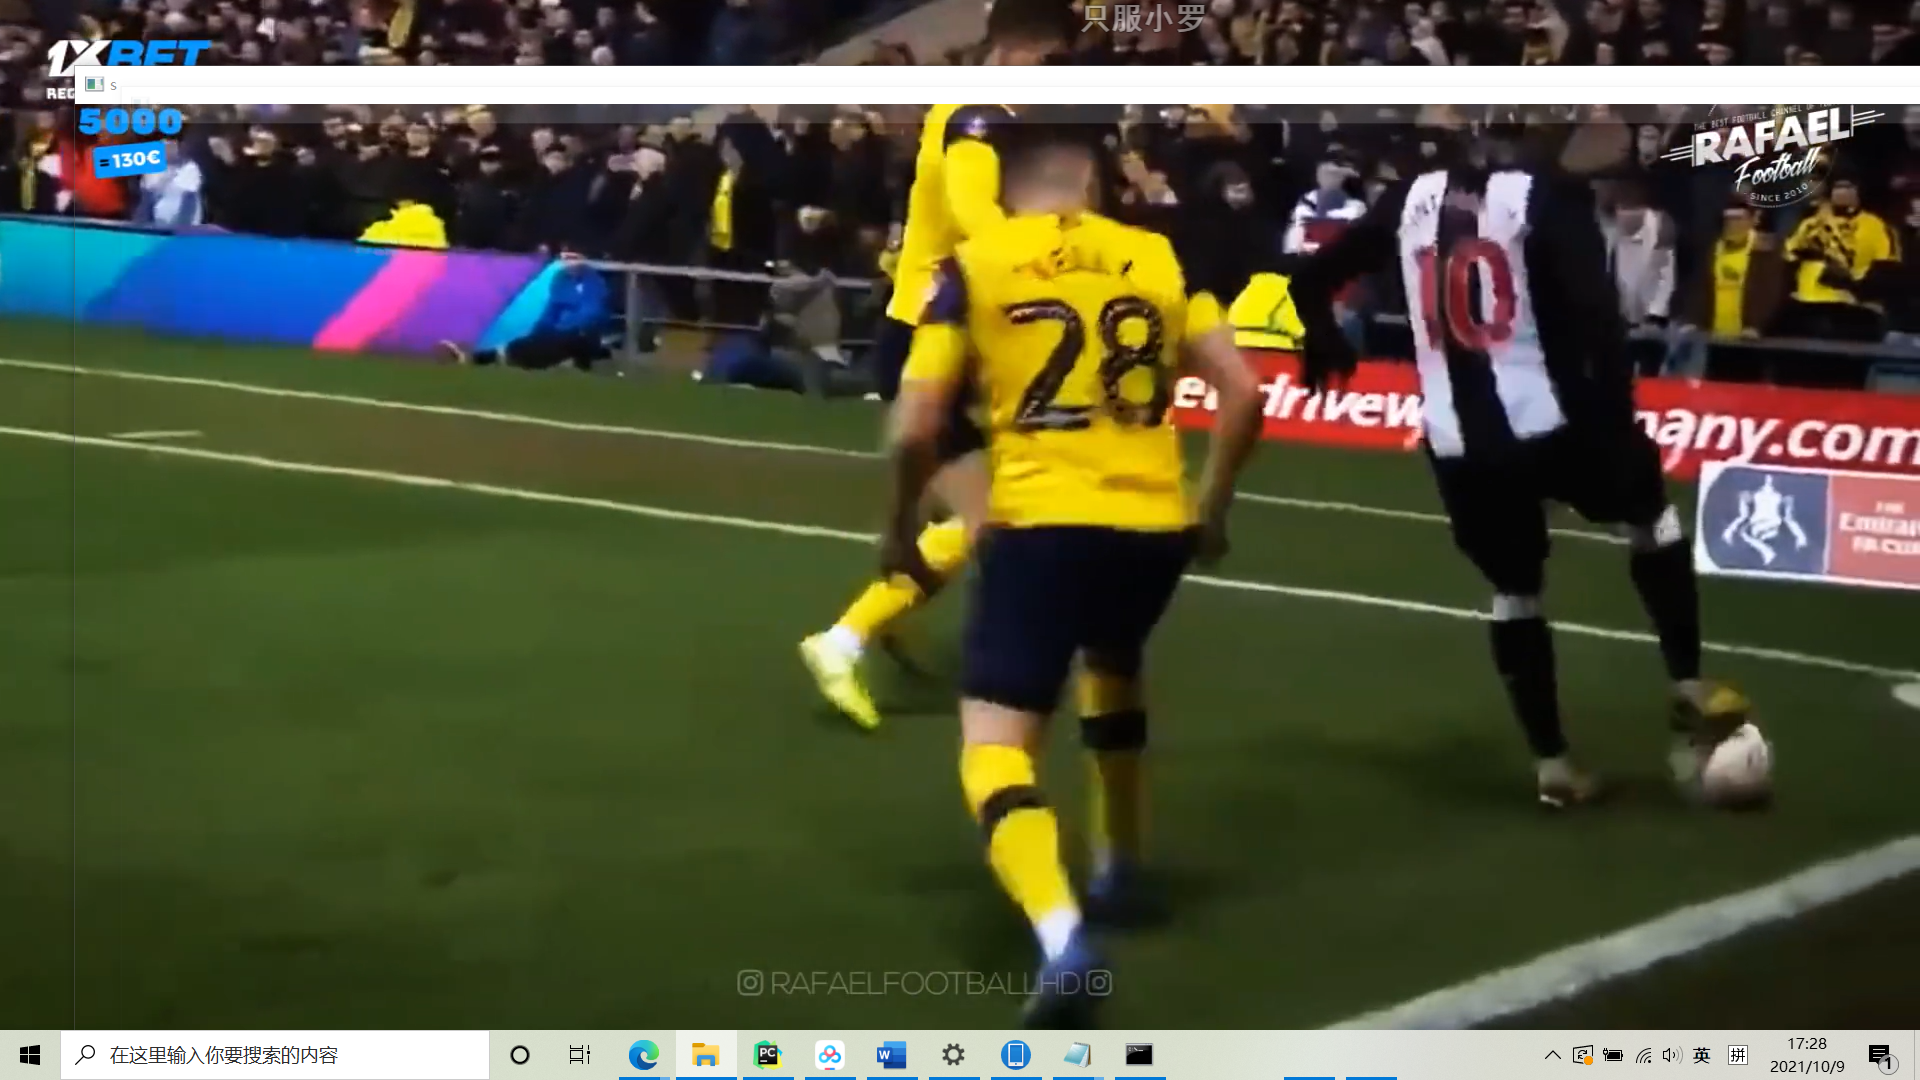ft: (1668, 713, 1772, 804)
